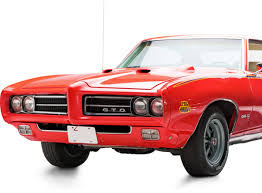car: (1, 31, 262, 183)
